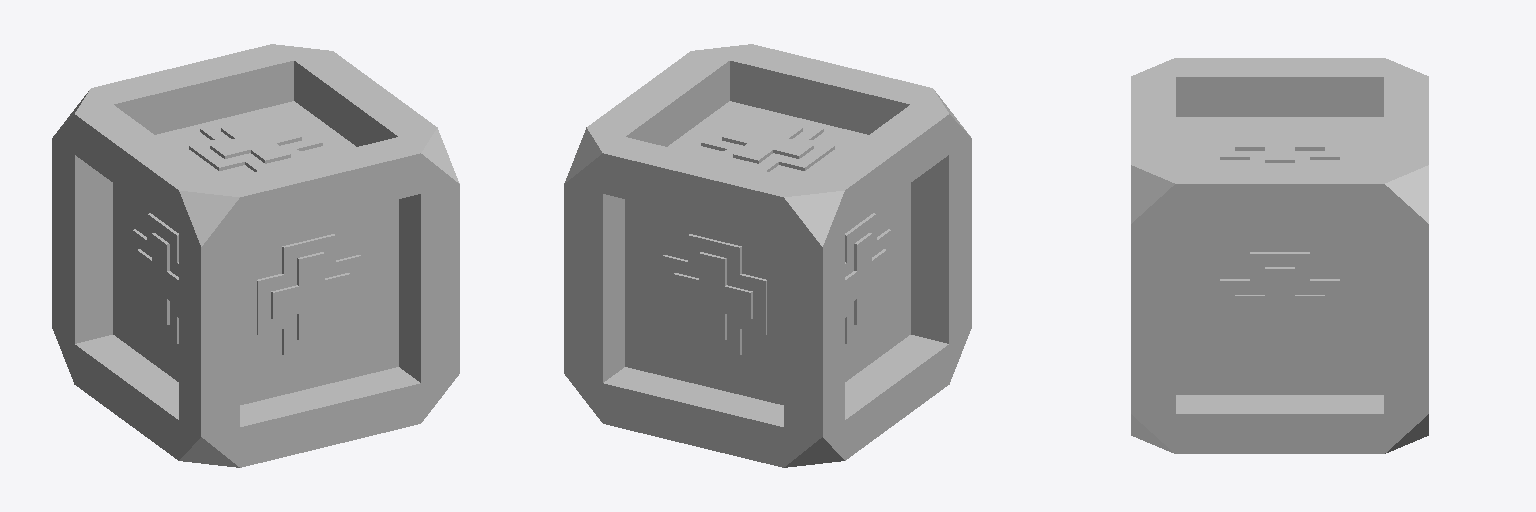
The model's file is medkit.obj.
3 views of the same model, side by side, from view 1: azimuth 30°, elevation 25°; view 2: azimuth 150°, elevation 25°; view 3: azimuth 270°, elevation 25° (orthographic).
Parts seen in each view (by area): view 1: cube, main; view 2: cube, main; view 3: cube, main.
Part boxes in pixels (bbox=[...]): cube: bbox=[52, 44, 459, 467]; main: bbox=[113, 101, 398, 404]; cube: bbox=[564, 44, 971, 467]; main: bbox=[625, 101, 910, 404]; cube: bbox=[1131, 58, 1428, 453]; main: bbox=[1176, 117, 1383, 394].
Size of the model in its own units: 1.25 by 1.25 by 1.25.